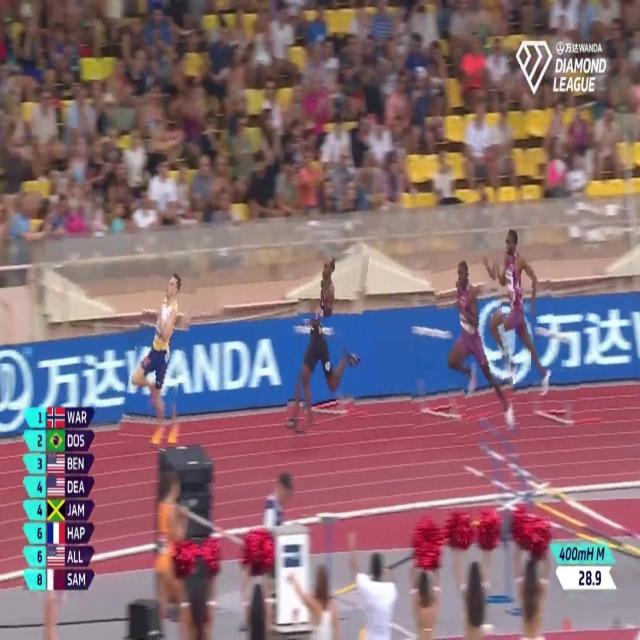athlete: (437, 256, 515, 442), (290, 251, 365, 435), (126, 264, 192, 450), (492, 225, 558, 396)
hurdle: (406, 311, 465, 428), (294, 317, 354, 425), (530, 319, 581, 432)
